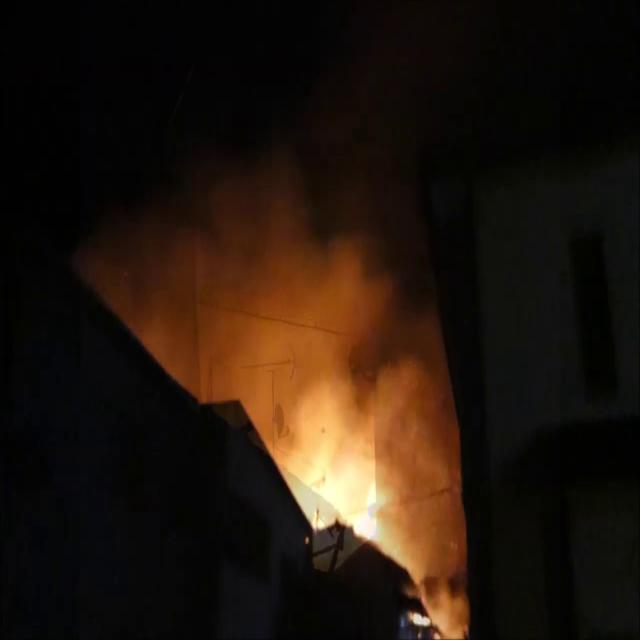Fire: (290, 418, 418, 589)
Smoke: (64, 128, 453, 478)
